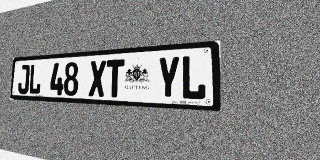4: (50, 63, 64, 95)
8: (63, 62, 79, 96)
J: (17, 65, 30, 94)
L: (181, 54, 206, 100), (29, 64, 42, 95)
T: (106, 59, 125, 98)
X: (89, 60, 106, 97)
Y: (157, 56, 180, 100)
